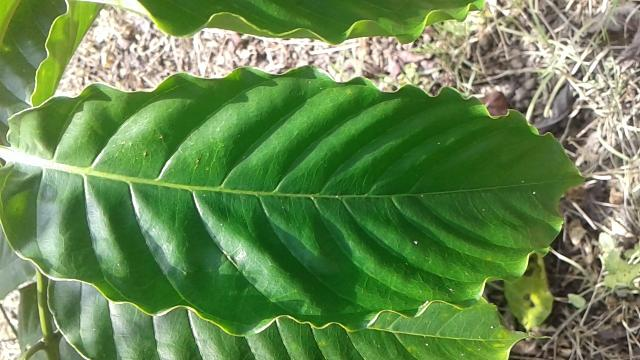healthy: (0, 60, 616, 339)
